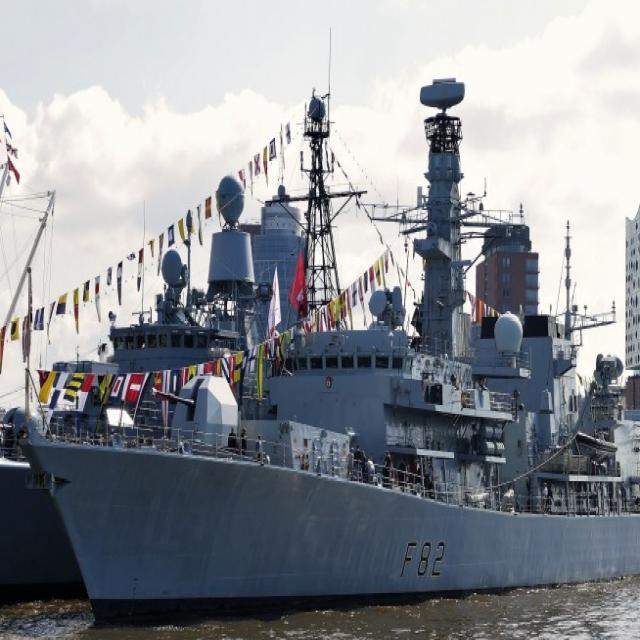Fragata: (22, 67, 640, 633)
